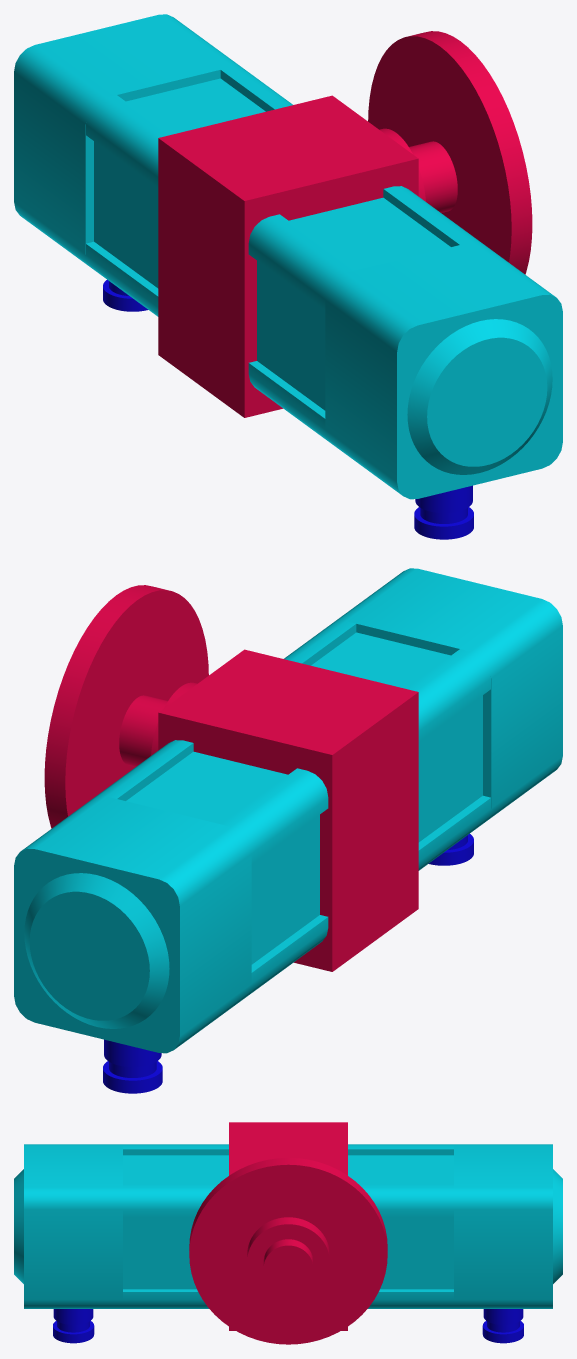
The model's file is RotaryActuator.fbx.
3 renders of one model, top to bottom at view 1: azimuth 30°, elevation 25°; view 2: azimuth 150°, elevation 25°; view 3: azimuth 270°, elevation 25°, orthographic. The views are drawn at different scales.
Visible parts, largest first — view 1: Body, BodyB, RotaryPlate, RacorA, Shaft, RacorB; view 2: Body, BodyB, RotaryPlate, RacorB, Shaft, RacorA; view 3: Body, RotaryPlate, BodyB, Shaft, RacorA, RacorB.
Part boxes in pixels (<box>): Body: <box>14,14,562,499</box>; BodyB: <box>158,95,425,417</box>; RotaryPlate: <box>368,31,532,274</box>; RacorA: <box>414,485,473,539</box>; Shaft: <box>409,141,457,212</box>; RacorB: <box>103,279,148,311</box>; Body: <box>14,568,562,1053</box>; BodyB: <box>151,649,418,971</box>; RotaryPlate: <box>44,585,208,828</box>; RacorB: <box>103,1039,162,1093</box>; Shaft: <box>119,695,167,766</box>; RacorA: <box>428,833,473,865</box>; Body: <box>14,1144,562,1308</box>; RotaryPlate: <box>189,1157,387,1344</box>; BodyB: <box>229,1122,347,1330</box>; Shaft: <box>263,1239,313,1290</box>; RacorA: <box>53,1309,94,1343</box>; RacorB: <box>482,1309,523,1343</box>.
Size of the model in its own units: 0.72 by 0.76 by 1.66.
